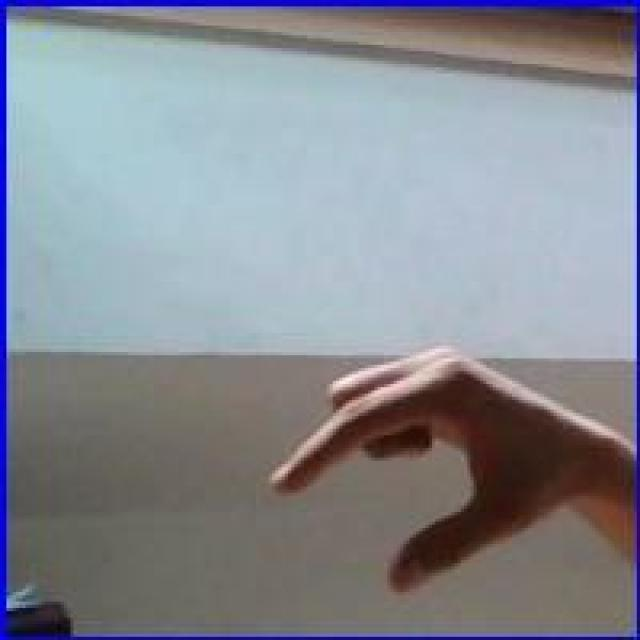Q: (260, 340, 578, 598)
